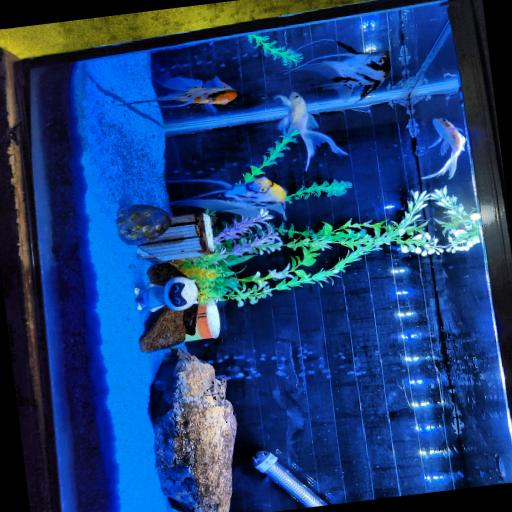Fish: (274, 92, 346, 170), (293, 42, 389, 100), (166, 178, 285, 219), (125, 77, 237, 113), (421, 119, 465, 179)
